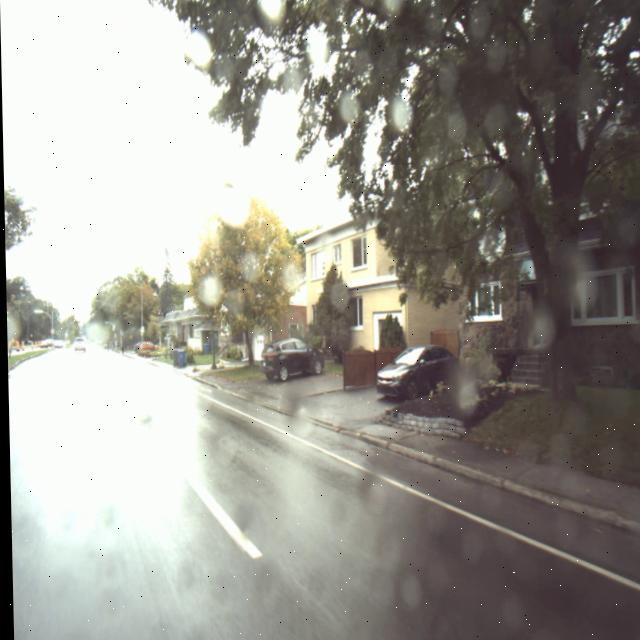car: (375, 347, 460, 400), (258, 339, 324, 380), (131, 341, 157, 356), (71, 338, 84, 353)
